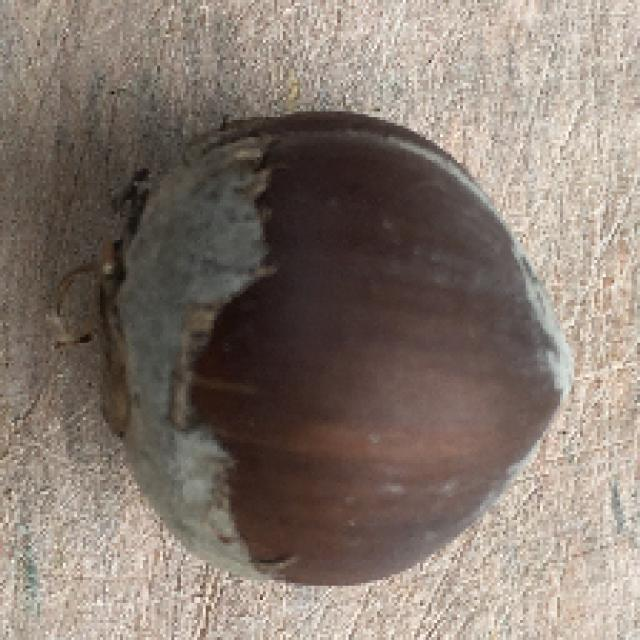damagedHazelnut: (58, 110, 576, 592)
